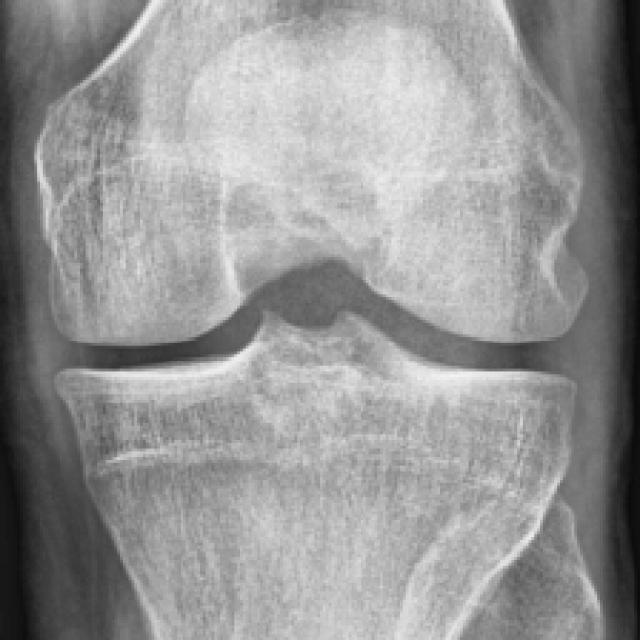femur: (37, 0, 589, 347)
tibia: (54, 310, 577, 640)
